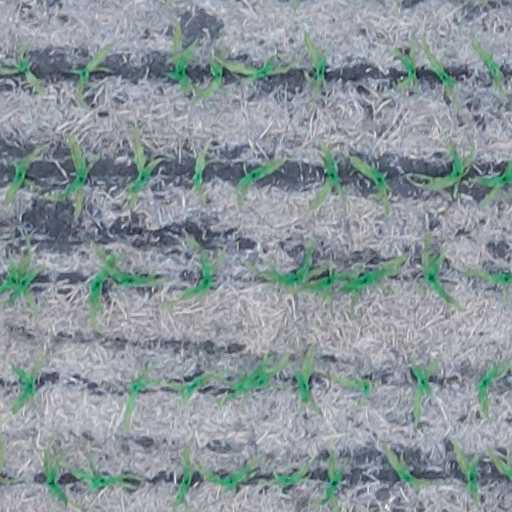planta: (45, 134, 102, 219), (243, 237, 329, 290), (164, 234, 227, 305), (339, 252, 407, 313), (407, 141, 476, 191), (125, 129, 167, 205), (419, 37, 462, 110), (92, 245, 165, 288), (224, 353, 290, 399), (419, 229, 458, 305), (164, 24, 201, 93), (123, 364, 164, 426), (348, 155, 390, 215), (86, 250, 118, 326), (310, 142, 345, 211), (469, 36, 505, 101), (233, 156, 284, 201), (196, 454, 260, 489), (3, 146, 41, 204), (452, 438, 482, 509), (72, 42, 111, 96), (383, 447, 434, 488), (409, 354, 438, 426), (167, 370, 226, 404), (285, 269, 362, 295), (69, 465, 138, 493), (224, 53, 297, 79), (10, 354, 43, 411), (291, 344, 319, 410), (195, 45, 226, 102), (387, 36, 418, 91), (12, 41, 43, 95), (304, 31, 328, 97), (43, 450, 72, 504), (191, 136, 214, 202), (328, 372, 374, 404), (173, 444, 195, 507), (268, 464, 310, 487)
